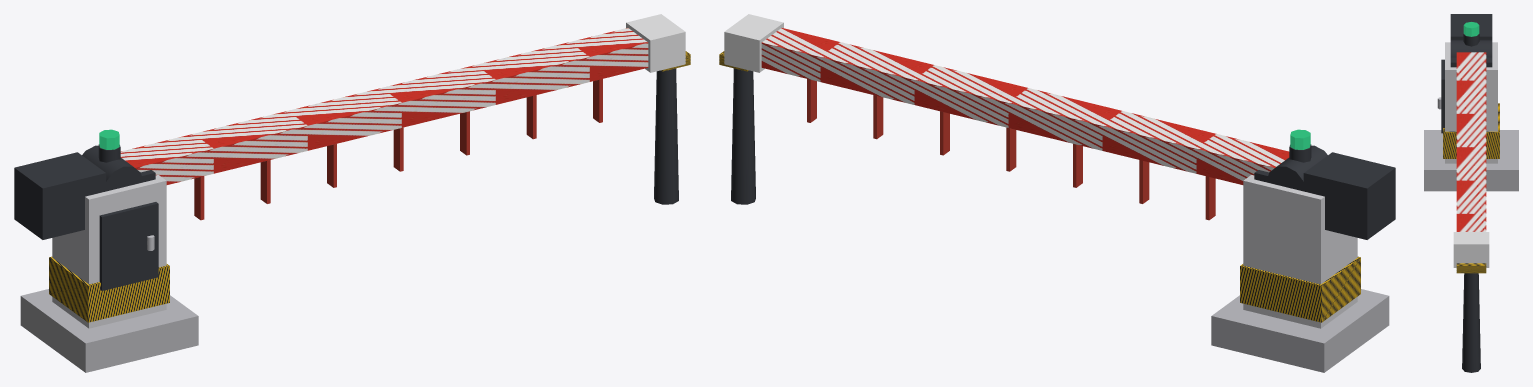
Rendered from cancela.glb.
3 renders of one model, left to right at view 1: azimuth 30°, elevation 25°; view 2: azimuth 150°, elevation 25°; view 3: azimuth 270°, elevation 25°, orthographic. The views are drawn at different scales.
Visible parts, largest first — view 1: braco, object 1, object 2, object 4, object 3, instances, object 12, object 9; view 2: braco, object 2, object 1, object 3, instances, object 12, object 9; view 3: braco, object 1, object 2, object 12, object 3, object 9, object 13, object 4, sinaleira, object 7, object 6.
Boxes of the visible parts, x1=… form: braco: x1=14, y1=14, x2=685, y2=239; object 1: x1=20, y1=289, x2=198, y2=372; object 2: x1=52, y1=175, x2=166, y2=328; object 4: x1=99, y1=202, x2=158, y2=290; object 3: x1=49, y1=256, x2=169, y2=322; instances: x1=194, y1=79, x2=602, y2=220; object 12: x1=654, y1=68, x2=678, y2=204; object 9: x1=82, y1=145, x2=141, y2=184; braco: x1=724, y1=14, x2=1395, y2=239; object 2: x1=1243, y1=175, x2=1357, y2=328; object 1: x1=1211, y1=289, x2=1389, y2=372; object 3: x1=1240, y1=256, x2=1360, y2=322; instances: x1=807, y1=79, x2=1215, y2=220; object 12: x1=731, y1=68, x2=755, y2=204; object 9: x1=1268, y1=145, x2=1327, y2=184; braco: x1=1450, y1=14, x2=1492, y2=267; object 1: x1=1424, y1=130, x2=1518, y2=191; object 2: x1=1445, y1=42, x2=1497, y2=163; object 12: x1=1462, y1=273, x2=1480, y2=372; object 3: x1=1443, y1=103, x2=1499, y2=158; object 9: x1=1450, y1=39, x2=1492, y2=57; object 13: x1=1456, y1=263, x2=1486, y2=273; object 4: x1=1441, y1=59, x2=1444, y2=133; sinaleira: x1=1463, y1=22, x2=1479, y2=36; object 7: x1=1463, y1=33, x2=1479, y2=46; object 6: x1=1450, y1=57, x2=1492, y2=67.
Bounding box in the file's own units: 9.25 × 2.73 × 1.6.
9 materials, 2 textured.
